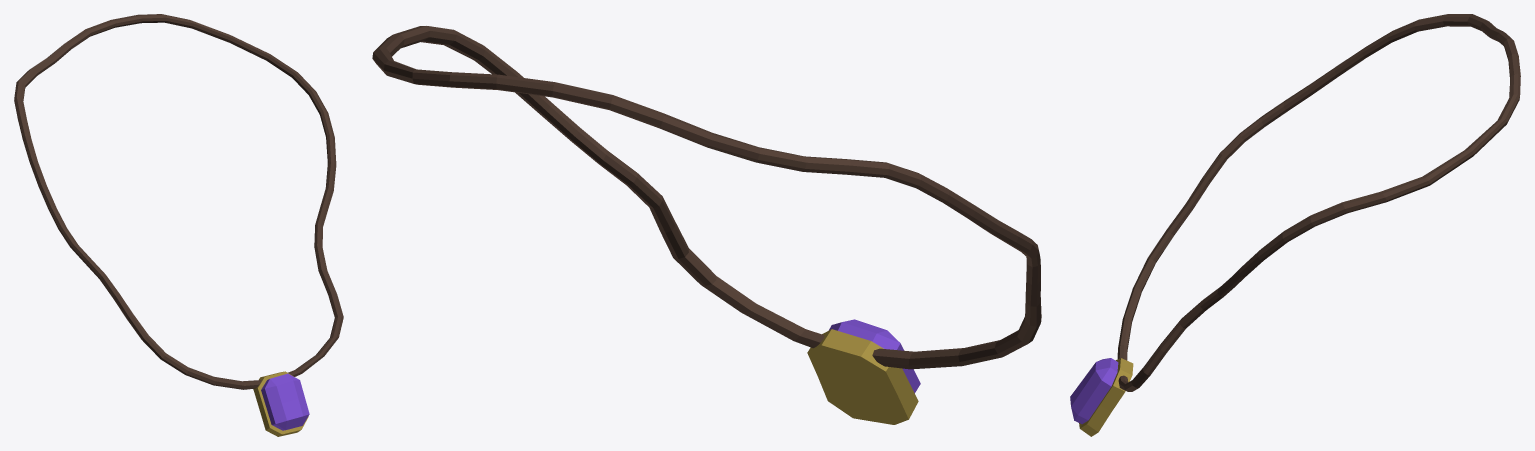
Rendered from Necklace1.glb.
3 renders of one model, left to right at view 1: azimuth 30°, elevation 25°; view 2: azimuth 150°, elevation 25°; view 3: azimuth 270°, elevation 25°, orthographic. The views are drawn at different scales.
Visible parts, largest first — view 1: Necklace1_Plane.001; view 2: Necklace1_Plane.001; view 3: Necklace1_Plane.001.
Part boxes in pixels (left/top/right/bottom): Necklace1_Plane.001: left=14, top=14, right=343, bottom=436; Necklace1_Plane.001: left=372, top=26, right=1041, bottom=424; Necklace1_Plane.001: left=1070, top=14, right=1520, bottom=436.
Size of the model in its own units: 0.8734 by 0.8767 by 0.9629.
